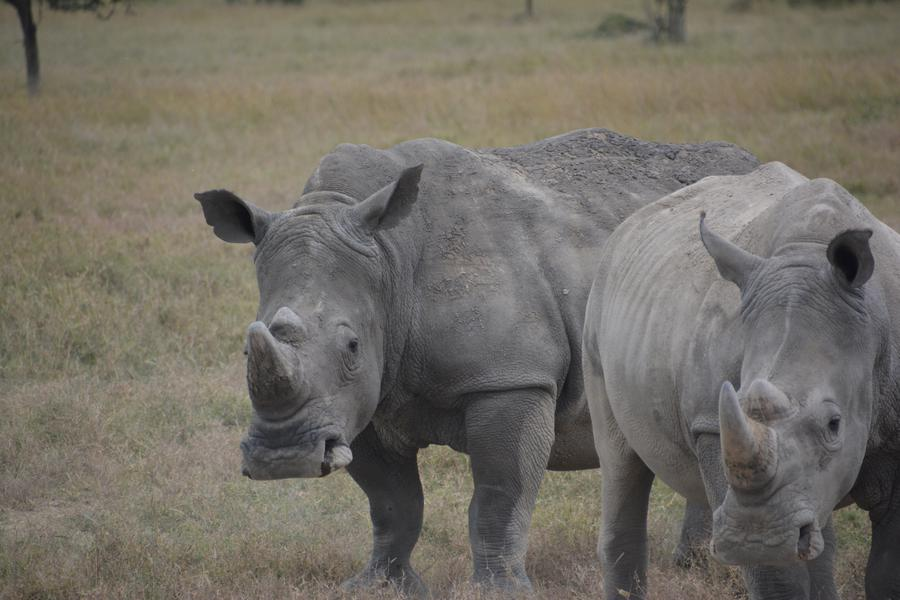rhino: (242, 146, 610, 532), (579, 158, 889, 563)
